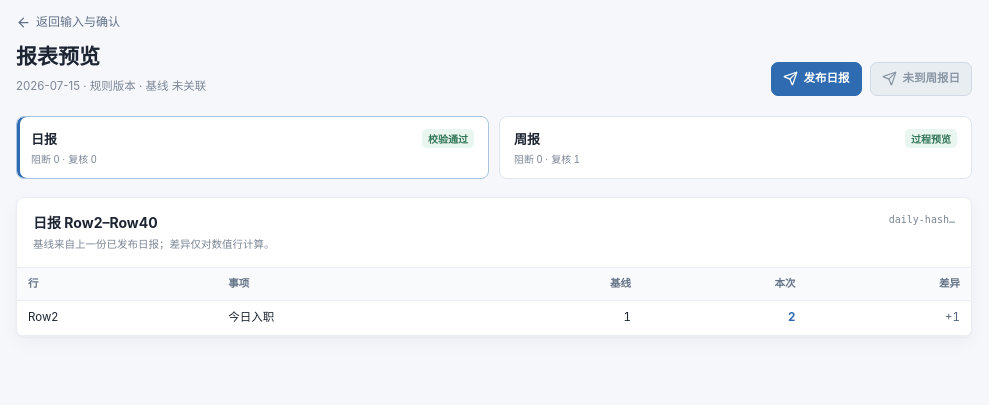
Scenario: RunPreviewPage › refreshes the weekly preview after daily publication
Expected: the button with aria-label "发布周报" is disabled, [870, 62, 972, 96]
Click the button "发布日报" at (816, 79), box [770, 62, 862, 96]
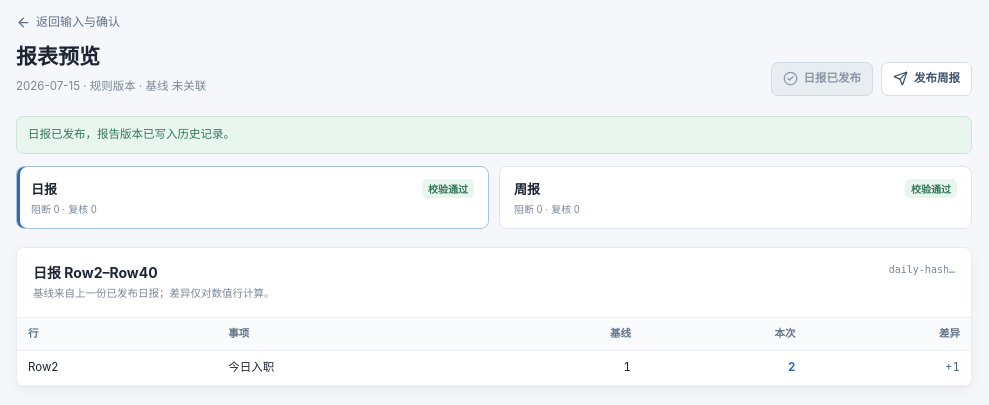
Result: the button "发布周报" is enabled at [881, 62, 972, 96]
